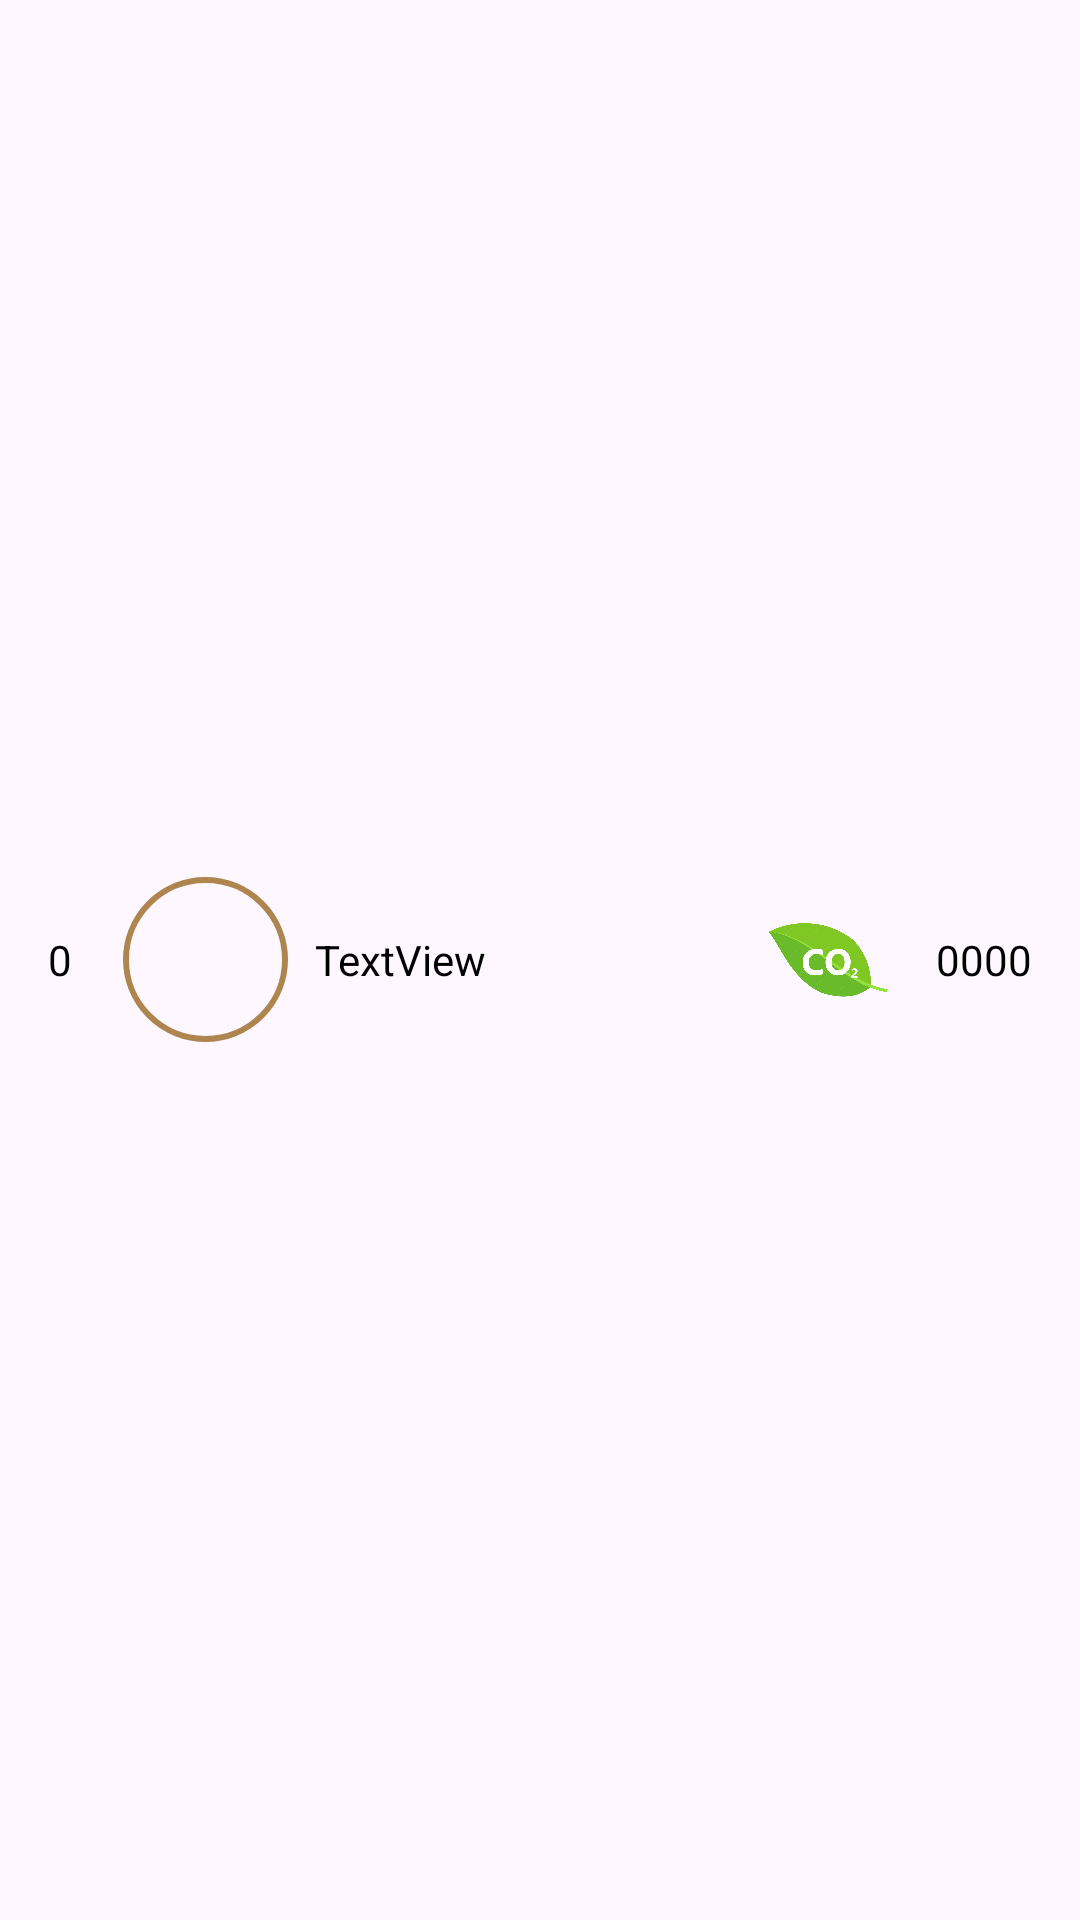

Icons on this 1080w x 1920h Android screen, each with its box as (x1, y1, x2, y2):
copoints: (769, 923, 888, 997)
